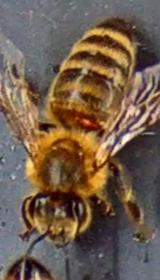varroa_mite: (70, 105, 104, 140)
